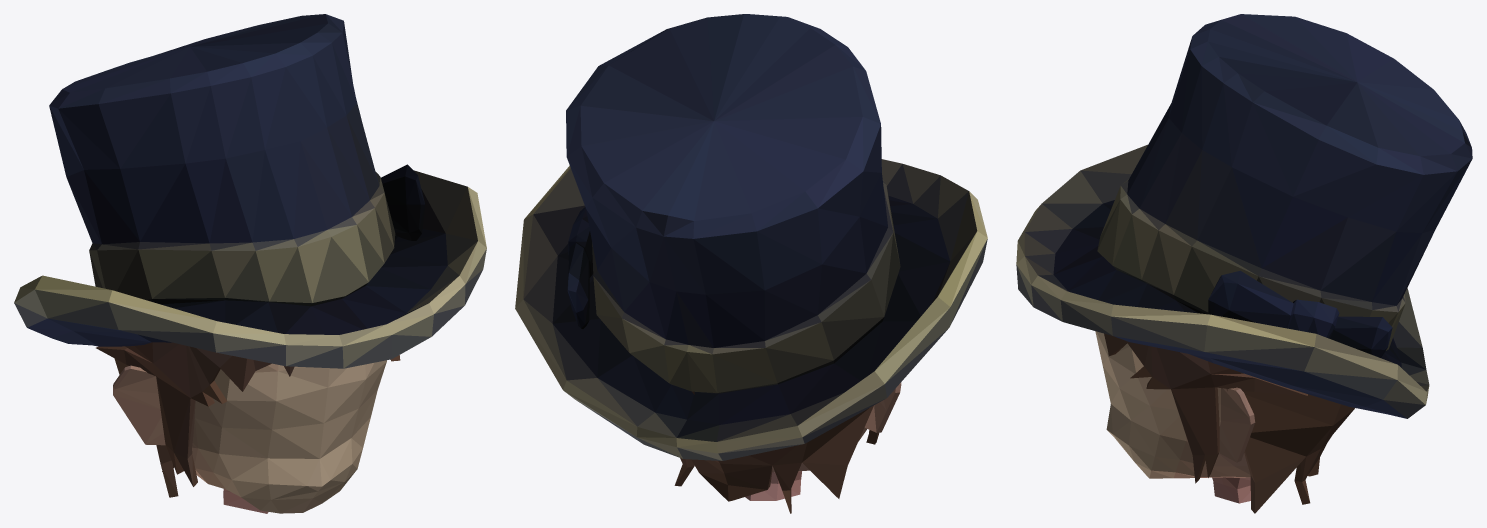
Rendered from helm_lightskin_spike_brown_tophat.fbx.
The picture shows the model from 3 angles, left to right: view 1: azimuth 30°, elevation 25°; view 2: azimuth 150°, elevation 25°; view 3: azimuth 270°, elevation 25°; orthographic projection.
Parts seen in each view (by area): view 1: helm_lightskin_spike_brown_tophat; view 2: helm_lightskin_spike_brown_tophat; view 3: helm_lightskin_spike_brown_tophat.
Boxes of the visible parts, left/top/right/bottom form: helm_lightskin_spike_brown_tophat: left=14, top=14, right=486, bottom=513; helm_lightskin_spike_brown_tophat: left=515, top=14, right=987, bottom=513; helm_lightskin_spike_brown_tophat: left=1016, top=14, right=1472, bottom=513.
Bounding box in the file's own units: 1.67 × 1.82 × 1.64.
